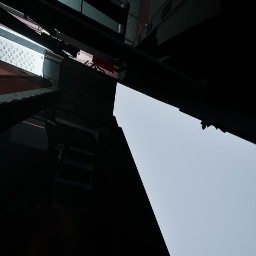0: (111, 72, 112, 73)
EmergencyPhone ,: (41, 30, 80, 58)
FireAlarm ,: (92, 56, 114, 72)
